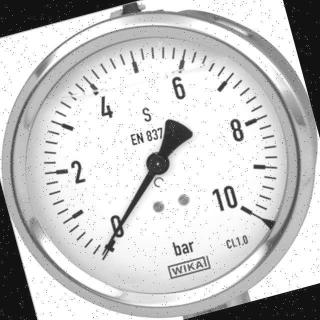gauge: (0, 0, 320, 320), (84, 222, 138, 270), (224, 190, 262, 226), (146, 151, 170, 175), (98, 238, 111, 254)
